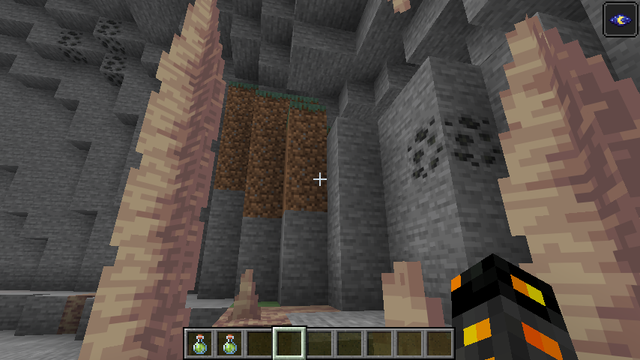coal: (406, 113, 499, 177), (96, 17, 125, 81), (57, 28, 86, 63)
